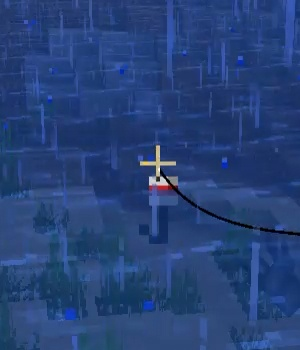up: (139, 171, 185, 242)
